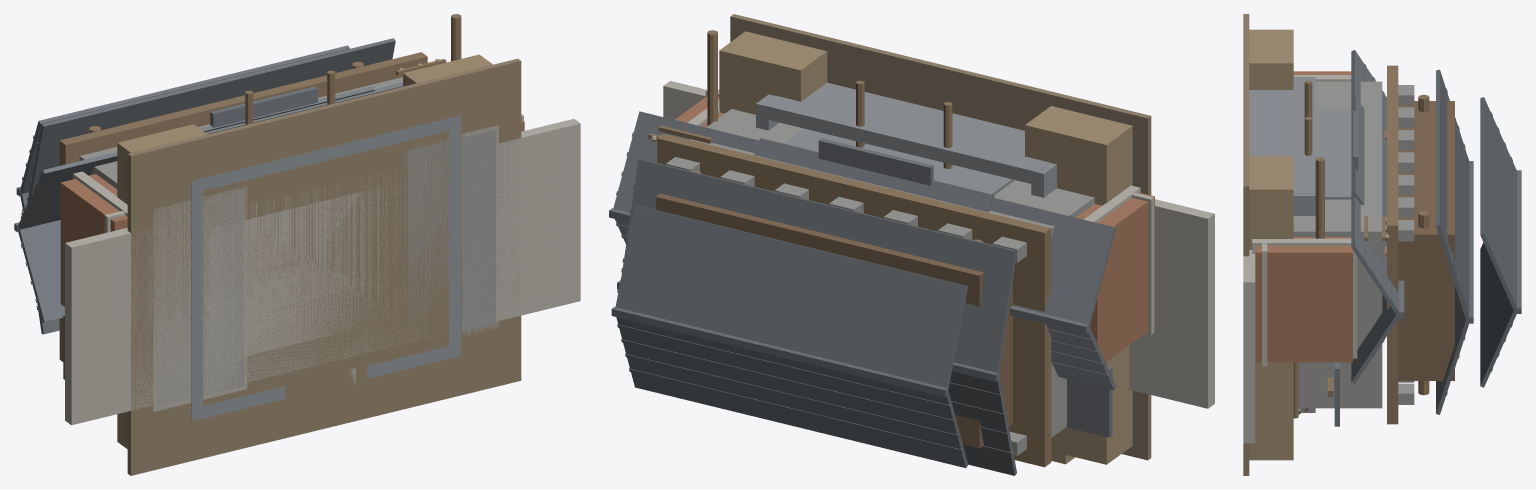
File: Model_TengxianConstructionKit.glb
3 views of the same model, side by side, from view 1: azimuth 30°, elevation 25°; view 2: azimuth 150°, elevation 25°; view 3: azimuth 270°, elevation 25° (orthographic). The views are drawn at different scales.
Visible parts, largest first — view 1: DefenseGround, CourtyardFoundation, StationPlatform, YamenStonePlinth, GateStoneFootWest, GateEastPier, GateWestPier, ShopStonePlinth, GateLowerEave_Slope_North, GateDeck, CourtyardBackWall, StationBuilding (+13 smaller); view 2: GateUpperEave_Slope_North, GateUpperEave_Slope_South, GateDeck, GateLowerEave_Slope_North, StationPlatform, DefenseGround, CourtyardBackWall, DefenseWestBerm, StationRoof_Slope_North, GateTowerHall, StationBuilding, DefenseEastBerm (+25 smaller); view 3: GateTowerHall, StationBuilding, DefenseEastBerm, GateEastPier, CourtyardBackWall, GateUpperEave_Slope_North, GateLowerEave_Slope_North, GateUpperLintel, GateDeck, GateUpperEave_Slope_South, CourtyardRearHouse, DefenseWestBerm (+32 smaller).
Part boxes in pixels (<box>): DefenseGround: <box>127,58,521,475</box>; CourtyardFoundation: <box>190,108,461,428</box>; StationPlatform: <box>65,119,580,425</box>; YamenStonePlinth: <box>210,183,401,364</box>; GateStoneFootWest: <box>153,186,247,411</box>; GateEastPier: <box>408,129,495,337</box>; GateWestPier: <box>96,162,243,407</box>; ShopStonePlinth: <box>207,194,404,356</box>; GateLowerEave_Slope_North: <box>27,38,395,203</box>; GateDeck: <box>59,52,427,361</box>; CourtyardBackWall: <box>197,117,454,191</box>; StationBuilding: <box>60,119,524,306</box>; GateUpperEave_Slope_North: <box>615,205,968,389</box>; GateUpperEave_Slope_South: <box>616,317,968,467</box>; GateDeck: <box>657,133,1051,467</box>; GateLowerEave_Slope_North: <box>623,159,1016,375</box>; StationPlatform: <box>663,81,1214,408</box>; DefenseGround: <box>730,14,1151,460</box>; CourtyardBackWall: <box>762,82,1050,184</box>; DefenseWestBerm: <box>1025,106,1132,464</box>; StationRoof_Slope_North: <box>613,111,1115,327</box>; GateTowerHall: <box>656,193,1012,448</box>; StationBuilding: <box>675,90,1154,362</box>; DefenseEastBerm: <box>719,31,827,114</box>; GateTowerHall: <box>1398,101,1454,380</box>; StationBuilding: <box>1255,71,1352,362</box>; DefenseEastBerm: <box>1249,156,1293,460</box>; GateEastPier: <box>1293,192,1382,408</box>; CourtyardBackWall: <box>1249,79,1315,193</box>; GateUpperEave_Slope_North: <box>1480,97,1516,313</box>; GateLowerEave_Slope_North: <box>1436,69,1469,321</box>; GateUpperLintel: <box>1353,81,1382,408</box>; GateDeck: <box>1387,65,1398,424</box>; GateUpperEave_Slope_South: <box>1480,242,1516,387</box>; CourtyardRearHouse: <box>1315,110,1351,199</box>; DefenseWestBerm: <box>1249,29,1293,89</box>.
Size of the model in its own units: 18 by 11.45 by 9.41.
